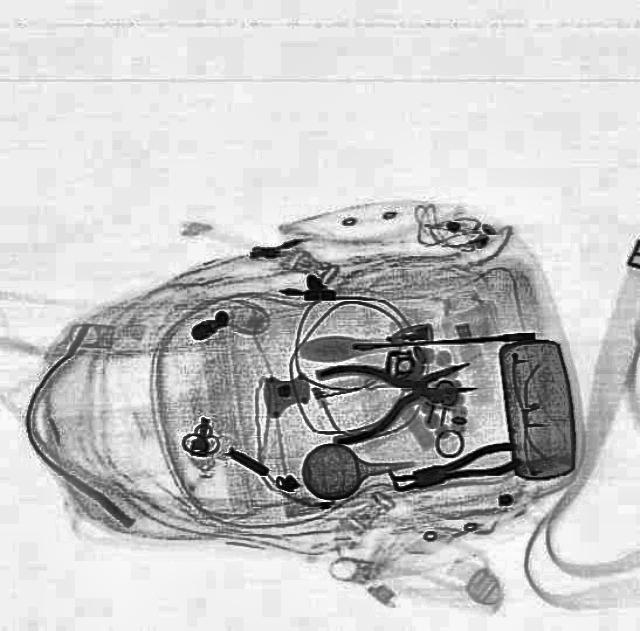Pliers: (316, 342, 482, 446), (386, 438, 522, 498)
